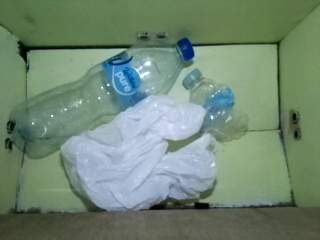bottle: (8, 36, 195, 161)
damaged-bottle: (182, 68, 249, 141)
plastic-bag: (61, 94, 218, 214)
